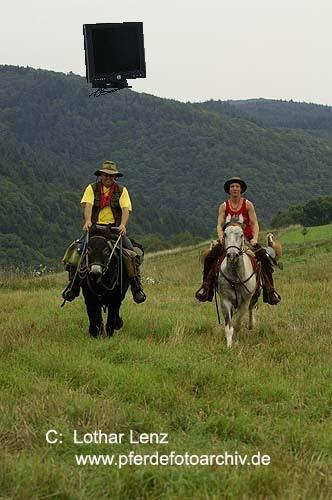tampered: (84, 23, 146, 97)
